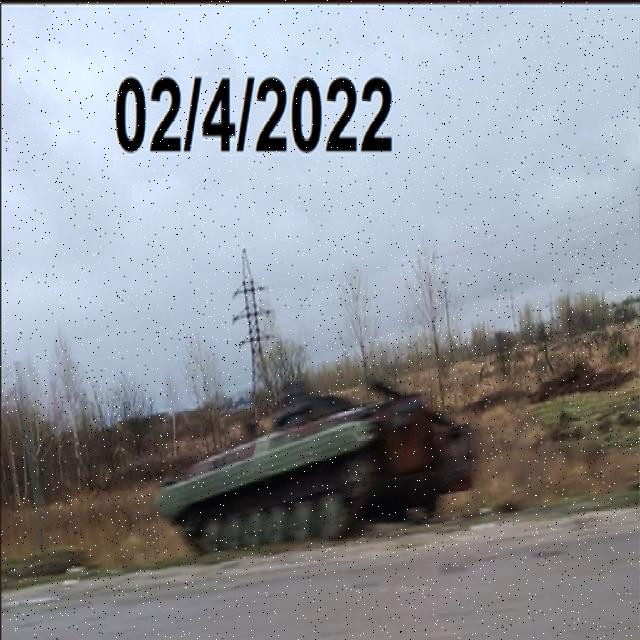APC-IFV: (150, 362, 474, 558)
